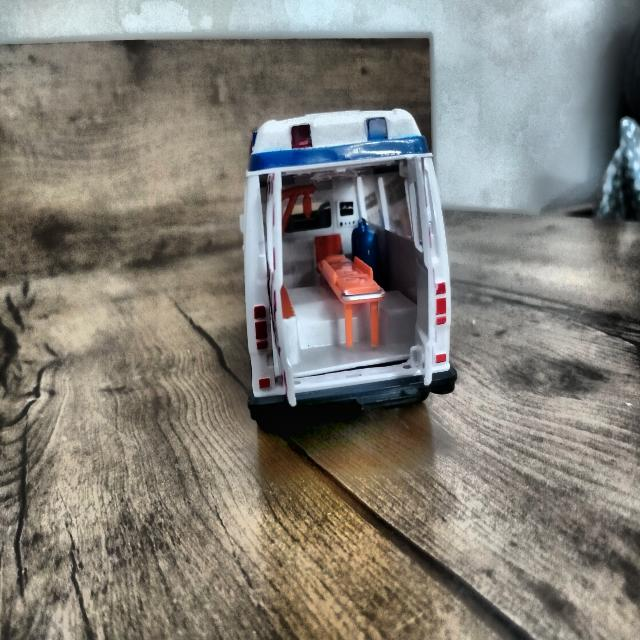Ambulance: (226, 96, 487, 458)
